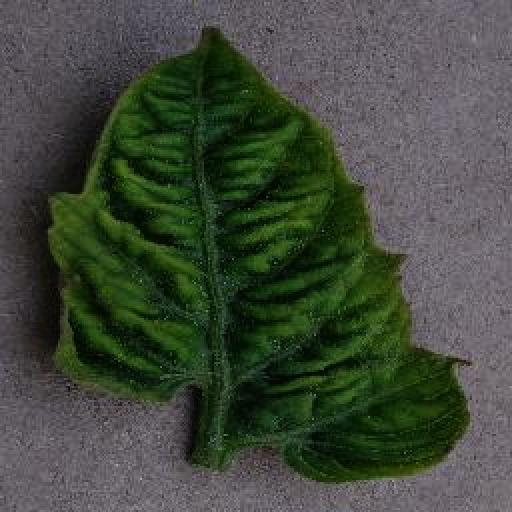disease_tomato: (44, 25, 474, 487)
